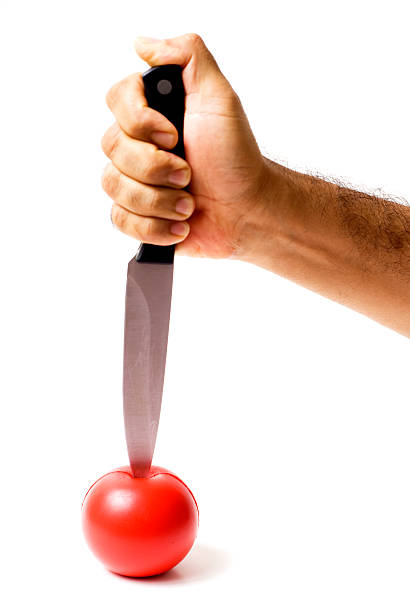knife: (119, 58, 189, 481)
